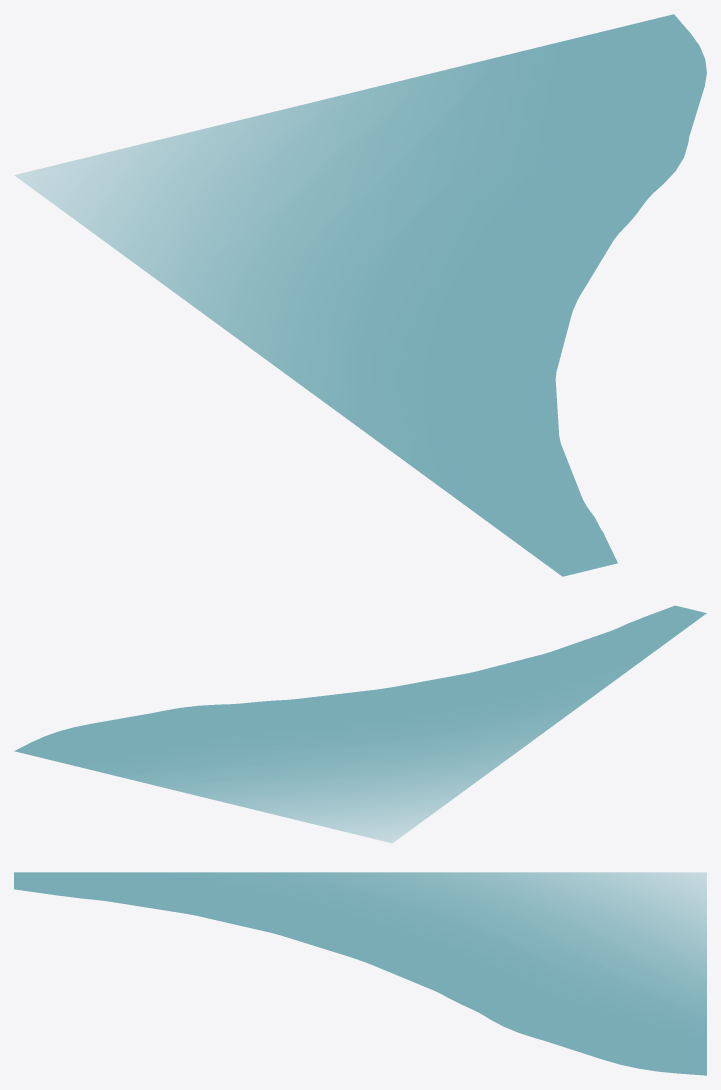
3 views of the same model, one above another, from view 1: azimuth 30°, elevation 25°; view 2: azimuth 150°, elevation 25°; view 3: azimuth 270°, elevation 25° (orthographic). The views are drawn at different scales.
Visible parts, largest first — view 1: city; view 2: city; view 3: city.
Boxes of the visible parts, x1,y1,x2,y2 form: city: (14, 14, 706, 576); city: (14, 605, 706, 842); city: (14, 872, 706, 1075).
Bounding box in the file's own units: 347 × 0 × 500.
